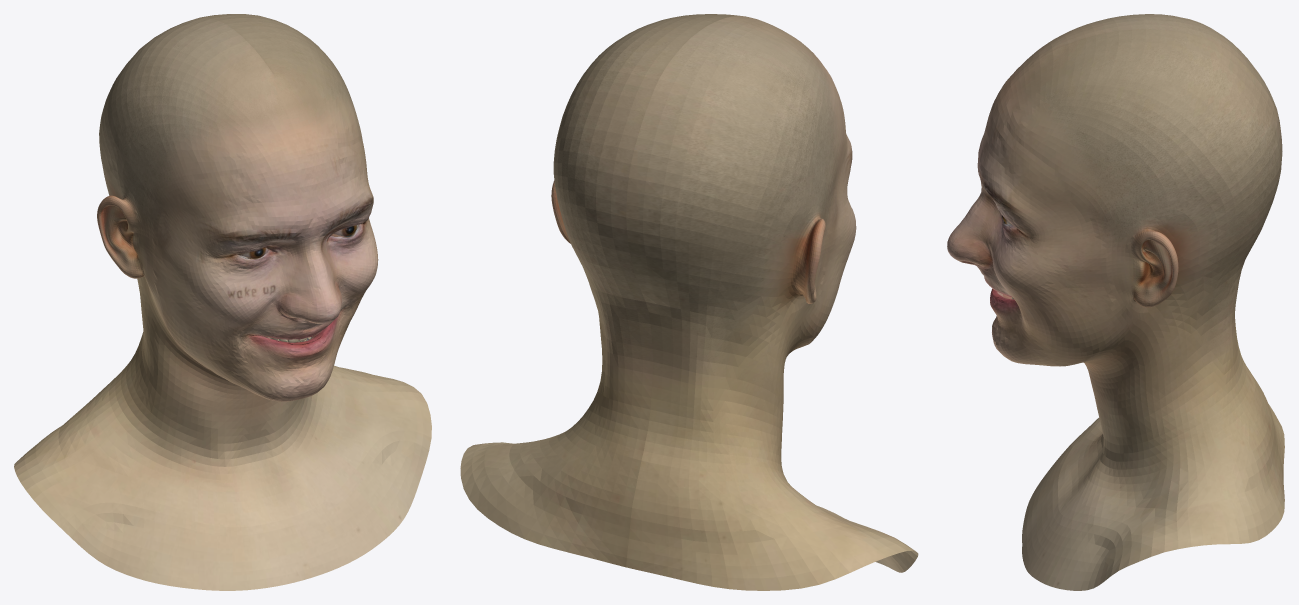
3 views of the same model, side by side, from view 1: azimuth 30°, elevation 25°; view 2: azimuth 150°, elevation 25°; view 3: azimuth 270°, elevation 25° (orthographic). The views are drawn at different scales.
Parts seen in each view (by area): view 1: head_lod0_mesh; view 2: head_lod0_mesh; view 3: head_lod0_mesh.
Part boxes in pixels (bbox=[...]): head_lod0_mesh: bbox=[14, 14, 431, 590]; head_lod0_mesh: bbox=[460, 14, 918, 590]; head_lod0_mesh: bbox=[947, 14, 1284, 590].
Bounding box in the file's own units: 29.88 × 36.69 × 21.77.
